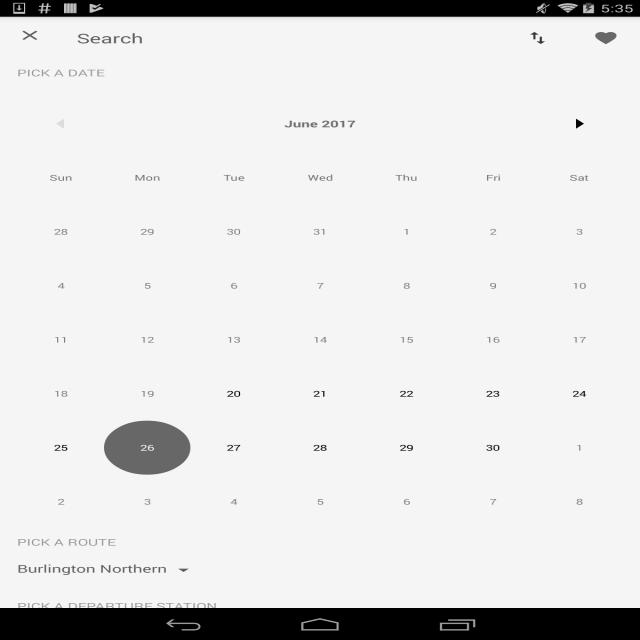CheckedTextView: (17, 550, 202, 587), (190, 366, 277, 421), (363, 366, 450, 421), (18, 366, 104, 421), (104, 366, 190, 421), (277, 366, 363, 421), (450, 366, 536, 421), (536, 366, 622, 421), (190, 204, 277, 258), (363, 204, 450, 258), (190, 258, 277, 312), (363, 258, 450, 312), (190, 313, 277, 367), (363, 313, 450, 367), (190, 420, 277, 474), (363, 420, 450, 474), (190, 474, 277, 528), (363, 474, 450, 528), (18, 204, 104, 258), (104, 204, 190, 258), (277, 204, 363, 258), (450, 204, 536, 258), (536, 204, 622, 258), (18, 258, 104, 312), (104, 258, 190, 312), (277, 258, 363, 312), (450, 258, 536, 312), (536, 258, 622, 312), (18, 313, 104, 367), (104, 313, 190, 367), (277, 313, 363, 367), (450, 313, 536, 367), (536, 313, 622, 367), (18, 420, 104, 474), (104, 420, 190, 474), (277, 420, 363, 474), (450, 420, 536, 474), (536, 420, 622, 474), (18, 474, 104, 528), (104, 474, 190, 528), (277, 474, 363, 528), (450, 474, 536, 528), (536, 474, 622, 528)
ImageView: (18, 96, 104, 150), (536, 96, 622, 150), (571, 16, 640, 59), (503, 17, 572, 59), (0, 17, 60, 54)
Spinner: (17, 555, 236, 582)
TextView: (17, 593, 218, 619), (190, 150, 277, 204), (363, 150, 450, 204), (18, 150, 104, 204), (104, 150, 190, 204), (277, 150, 363, 204), (450, 150, 536, 204), (536, 150, 622, 204), (17, 529, 116, 555), (17, 59, 105, 86), (77, 29, 143, 47)
